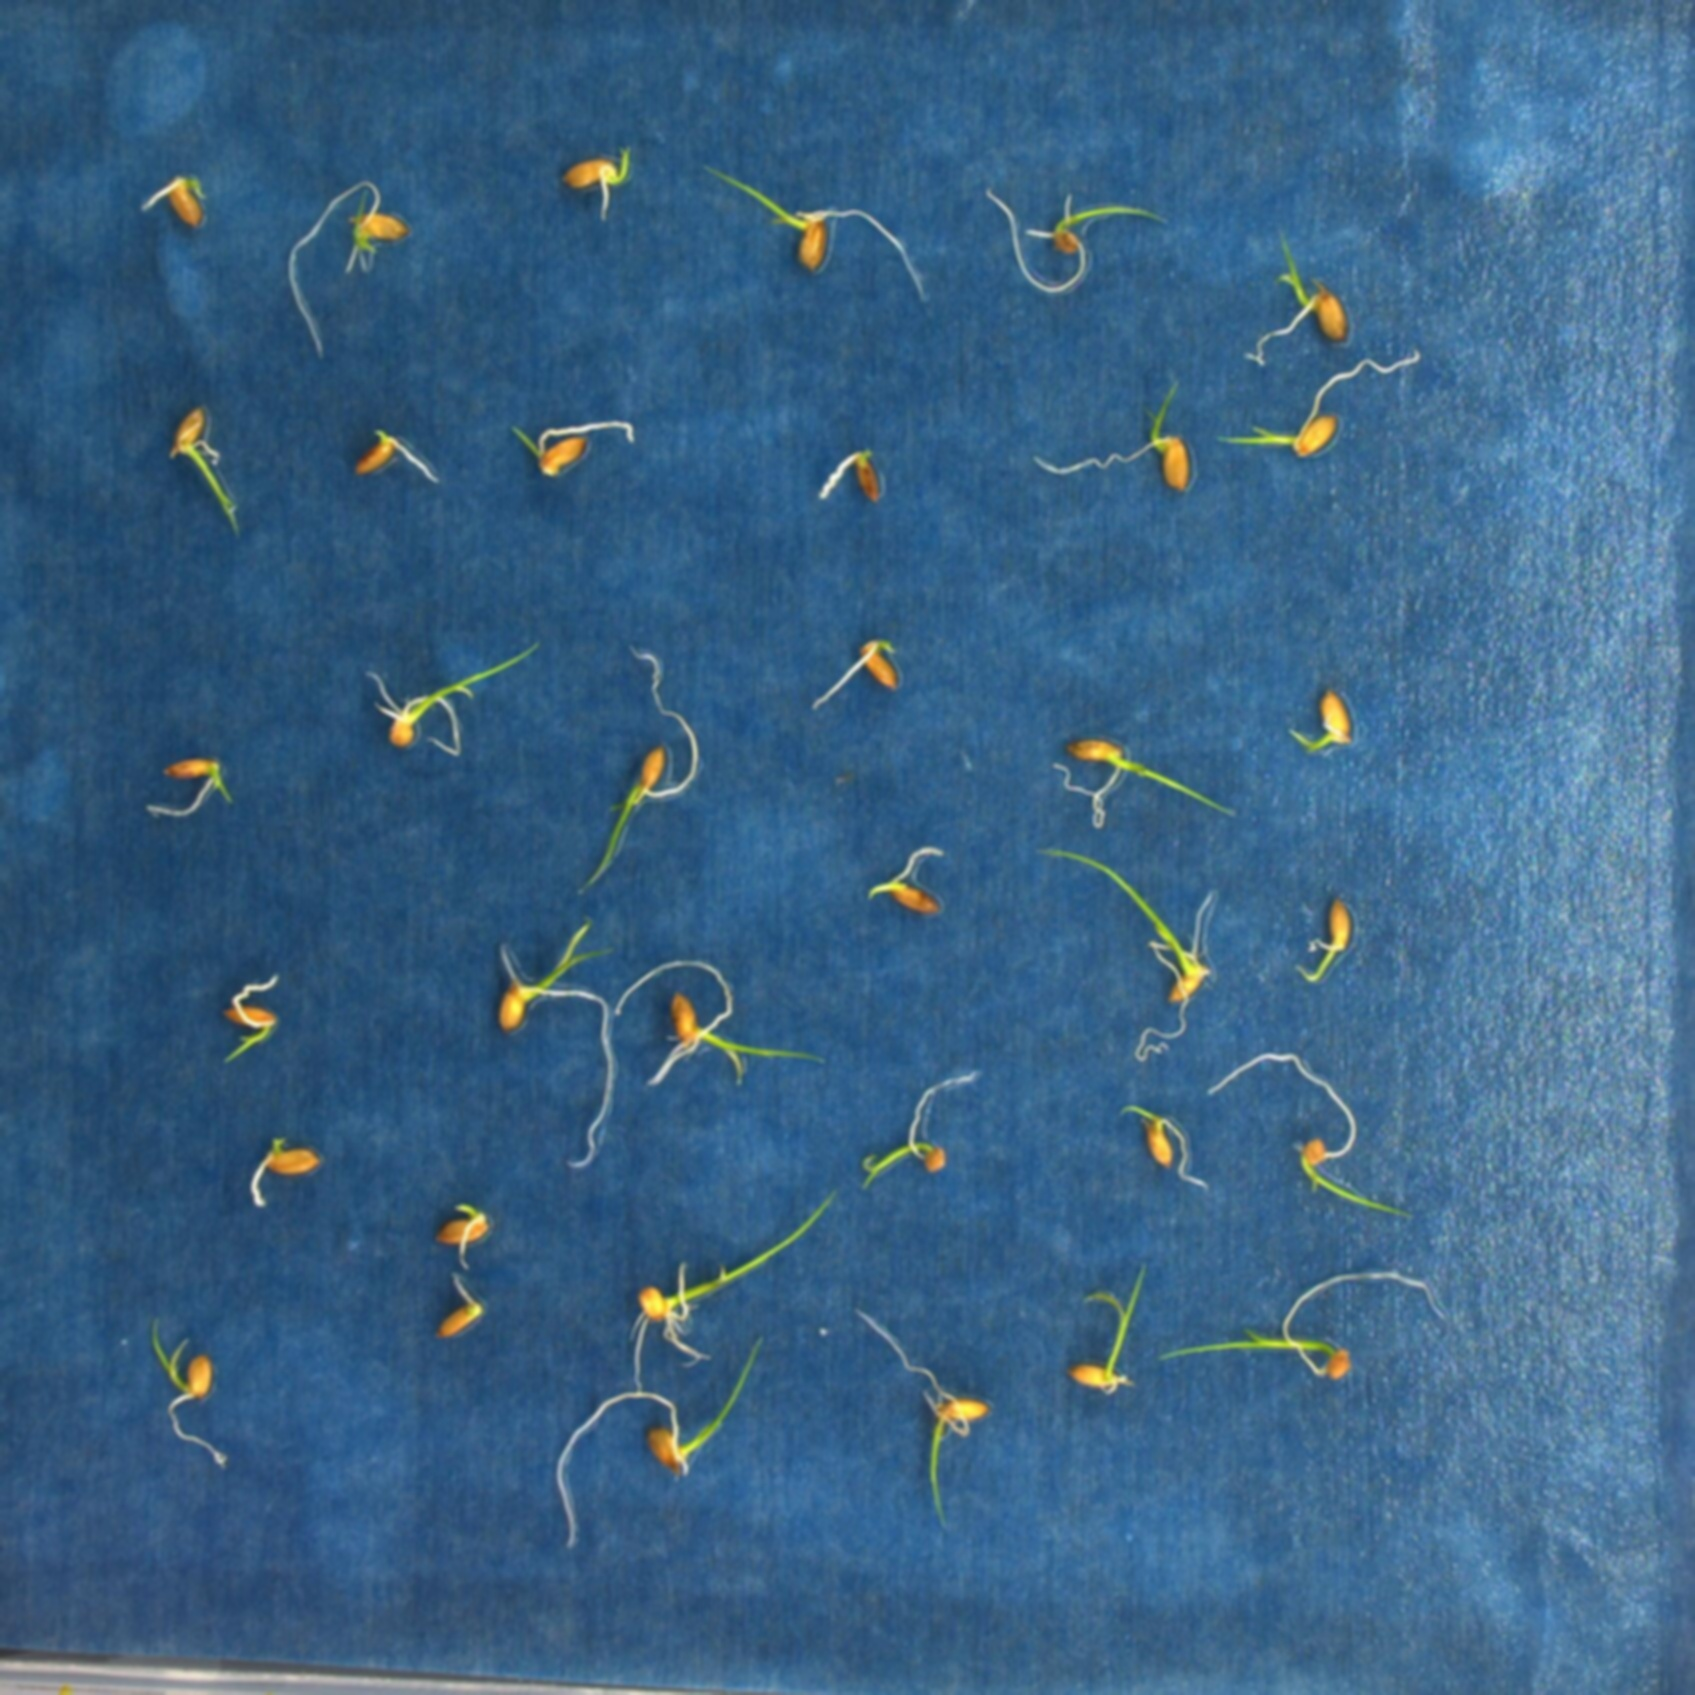not sprout: (251, 1135, 320, 1209), (355, 428, 439, 486), (820, 449, 882, 503), (436, 1274, 484, 1343)
sprout: (556, 1336, 764, 1549), (632, 1187, 838, 1392), (1038, 847, 1214, 1062), (1208, 1052, 1419, 1222), (1159, 1271, 1445, 1381), (703, 165, 927, 304), (577, 643, 700, 897), (855, 1309, 990, 1530), (497, 917, 615, 1170), (615, 959, 826, 1088), (286, 179, 408, 359), (1215, 354, 1420, 461), (365, 640, 540, 757), (984, 186, 1169, 296), (1034, 380, 1192, 492), (1054, 734, 1237, 829), (1245, 228, 1349, 369), (861, 1071, 976, 1192), (152, 1315, 227, 1468), (1066, 1262, 1147, 1395), (169, 407, 242, 540), (1121, 1105, 1209, 1192), (511, 419, 633, 477), (813, 638, 900, 712), (220, 973, 279, 1065), (146, 757, 231, 820), (1295, 896, 1354, 984), (560, 149, 632, 222), (868, 846, 944, 914), (1288, 688, 1354, 757), (435, 1201, 489, 1273), (141, 175, 203, 227)
